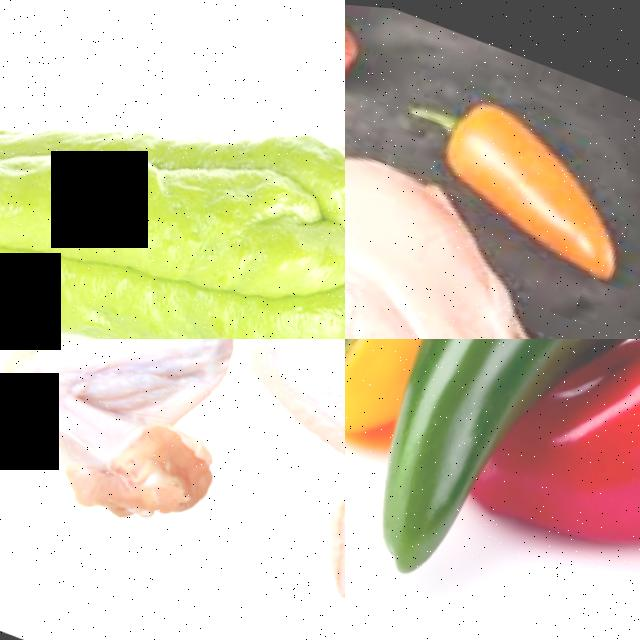chayote: (0, 0, 345, 339)
chicken breast: (345, 67, 588, 339)
chicken wing: (0, 339, 303, 544), (191, 339, 345, 620)
chilli: (552, 339, 640, 581)
